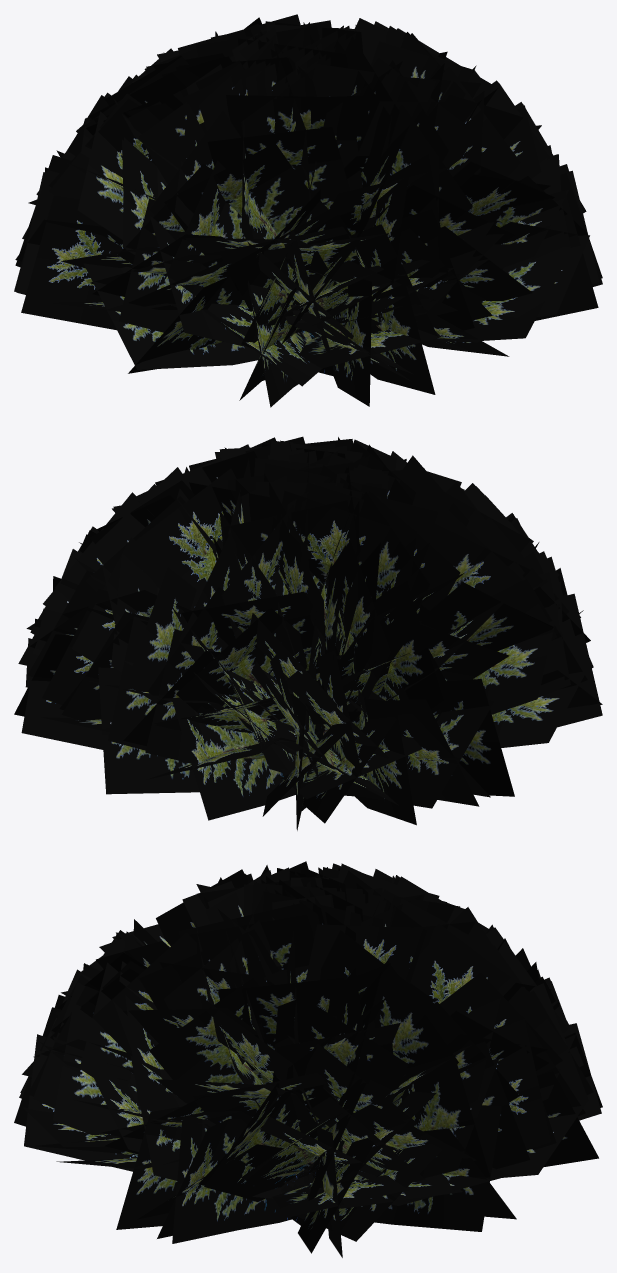
File: PLANT.fbx
3 renders of one model, top to bottom at view 1: azimuth 30°, elevation 25°; view 2: azimuth 150°, elevation 25°; view 3: azimuth 270°, elevation 25°, orthographic.
Visible parts, largest first — view 1: TexturesCom_NaturePlants0044_1_masked_S.189; view 2: TexturesCom_NaturePlants0044_1_masked_S.189; view 3: TexturesCom_NaturePlants0044_1_masked_S.189.
Boxes of the visible parts, box(x1,y1,x2,y2) form: TexturesCom_NaturePlants0044_1_masked_S.189: box(14, 14, 602, 407); TexturesCom_NaturePlants0044_1_masked_S.189: box(14, 436, 602, 830); TexturesCom_NaturePlants0044_1_masked_S.189: box(14, 861, 602, 1257).
Bounding box in the file's own units: 64.27 × 38.54 × 64.47.
Materials: 1 (1 with a texture image).
